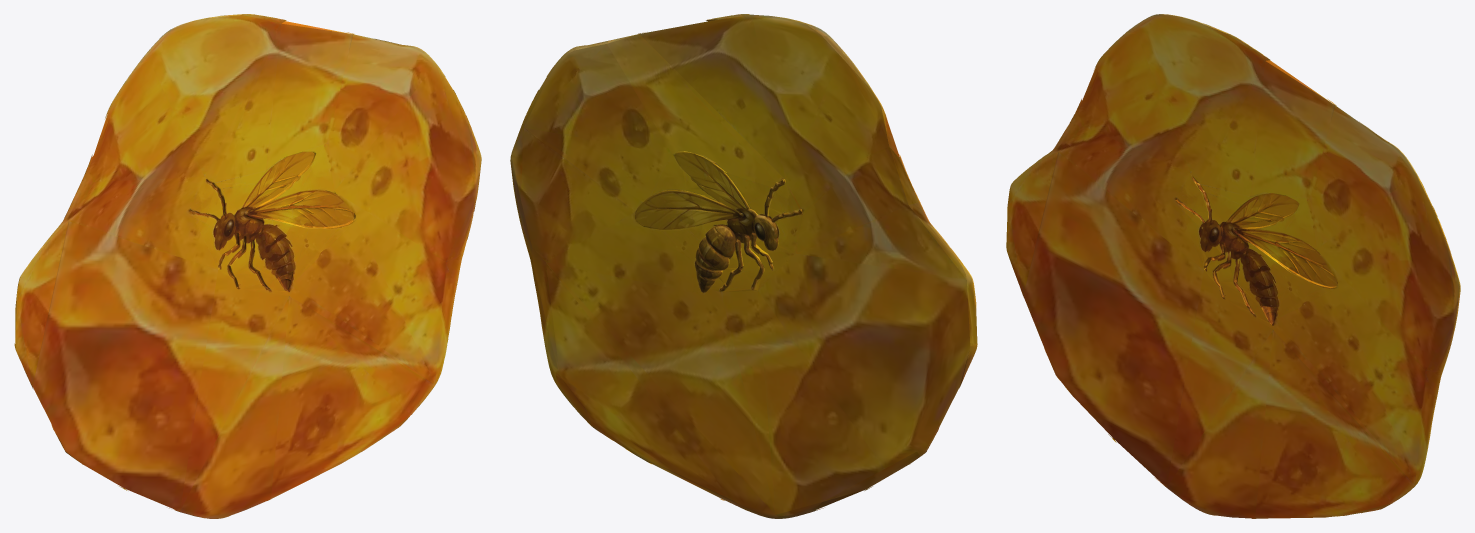
The model's file is mat_amber.glb.
3 views of the same model, side by side, from view 1: azimuth 30°, elevation 25°; view 2: azimuth 150°, elevation 25°; view 3: azimuth 330°, elevation 25° (orthographic). The views are drawn at different scales.
Visible parts, largest first — view 1: output_unwrapped; view 2: output_unwrapped; view 3: output_unwrapped.
Boxes of the visible parts, box(x1,y1,x2,y2) form: output_unwrapped: box(14, 14, 481, 518); output_unwrapped: box(510, 14, 977, 518); output_unwrapped: box(1006, 14, 1460, 518).
Size of the model in its own units: 1.84 by 1.9 by 0.0467.
Materials: 1 (1 with a texture image).
